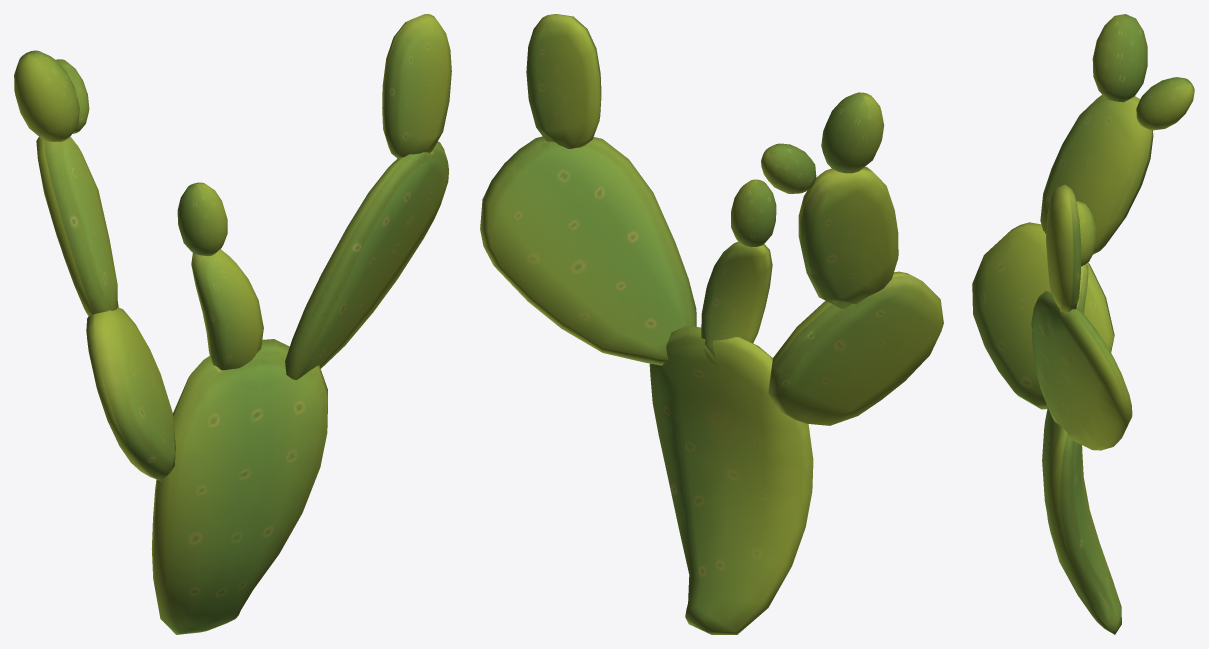
Rendered from bcactus3.fbx.
The picture shows the model from 3 angles, left to right: view 1: azimuth 30°, elevation 25°; view 2: azimuth 150°, elevation 25°; view 3: azimuth 270°, elevation 25°; orthographic projection. The views are drawn at different scales.
Visible parts, largest first — view 1: cactus2_low001; view 2: cactus2_low001; view 3: cactus2_low001.
Part boxes in pixels (x1,y1,x2,y2): cactus2_low001: (14,14,451,634); cactus2_low001: (480,14,943,634); cactus2_low001: (972,14,1194,634).
Size of the model in its own units: 498 by 256 by 689.
